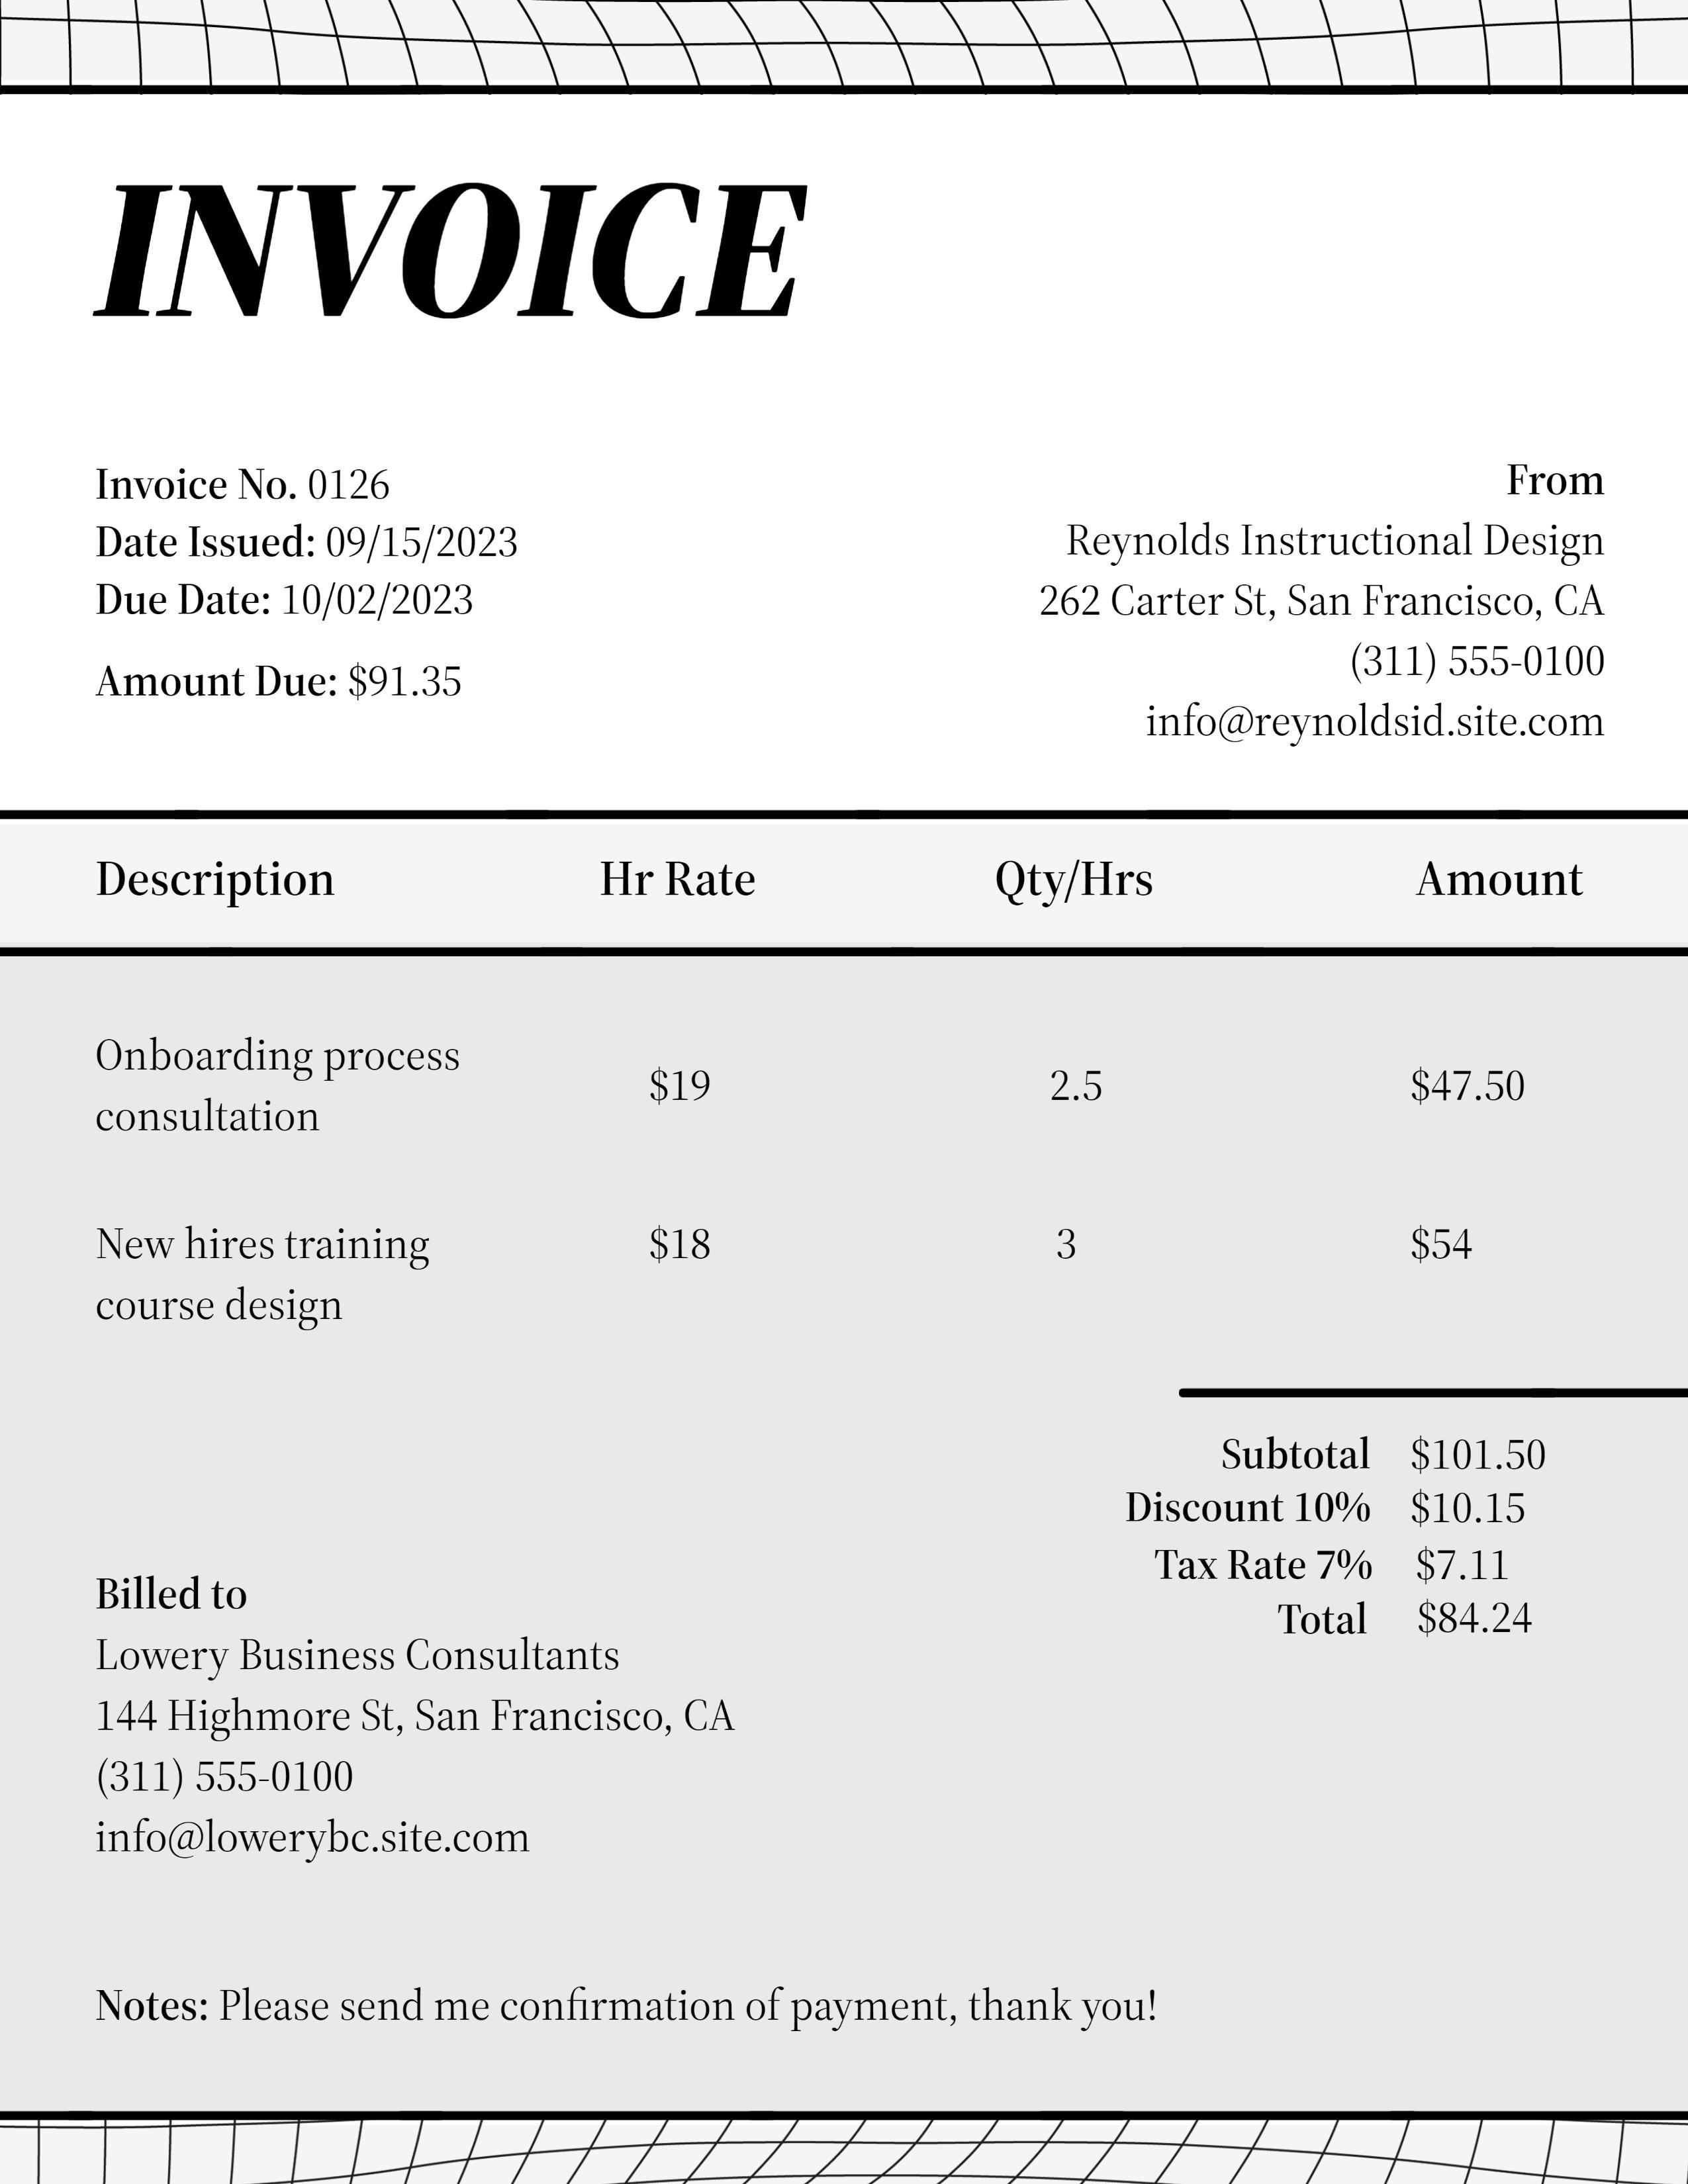ROI: (76, 837, 1610, 1337), (83, 1560, 755, 1868), (1025, 450, 1622, 753), (1098, 1406, 1555, 1668), (83, 463, 530, 721), (90, 1975, 1206, 2049)
